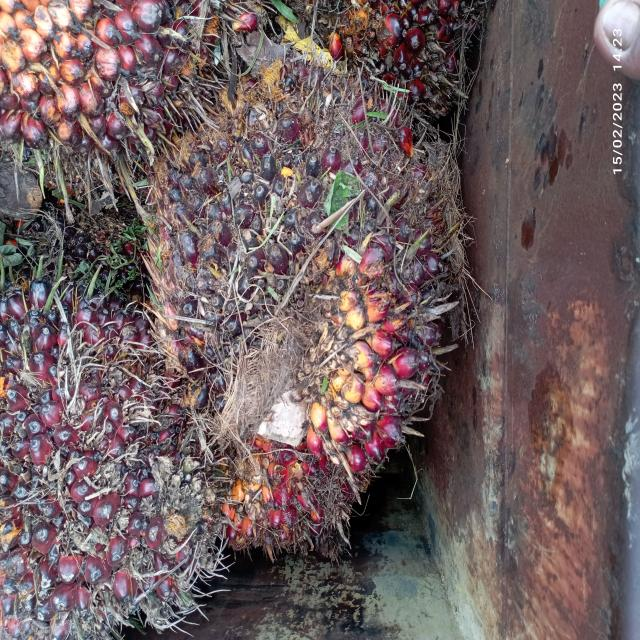fraksi 00: (146, 34, 488, 477), (0, 258, 244, 640)
